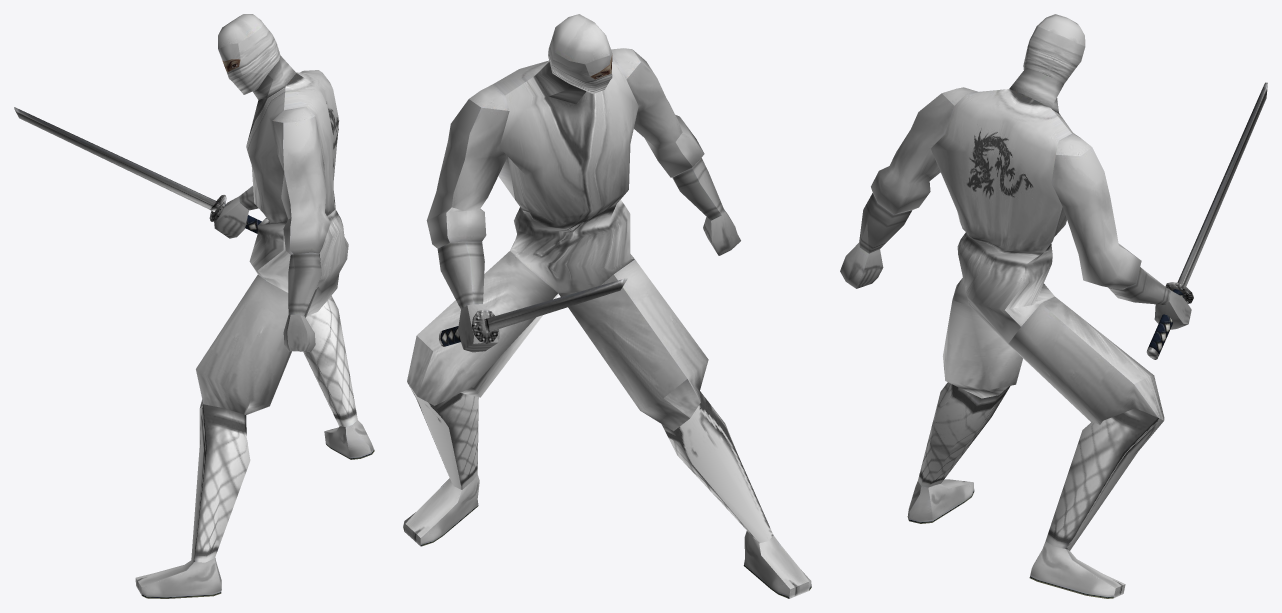
Rendered from ninja2.obj.
3 views of the same model, side by side, from view 1: azimuth 30°, elevation 25°; view 2: azimuth 150°, elevation 25°; view 3: azimuth 270°, elevation 25° (orthographic). The views are drawn at different scales.
Visible parts, largest first — view 1: ninja.ms3d.mo_ninja.ms3d.m; view 2: ninja.ms3d.mo_ninja.ms3d.m; view 3: ninja.ms3d.mo_ninja.ms3d.m.
Boxes of the visible parts, bbox=[...] form: ninja.ms3d.mo_ninja.ms3d.m: bbox=[14, 14, 374, 598]; ninja.ms3d.mo_ninja.ms3d.m: bbox=[403, 14, 811, 598]; ninja.ms3d.mo_ninja.ms3d.m: bbox=[840, 14, 1267, 598].
Bounding box in the file's own units: 5.14 × 8.68 × 6.05.
Materials: 1 (1 with a texture image).
